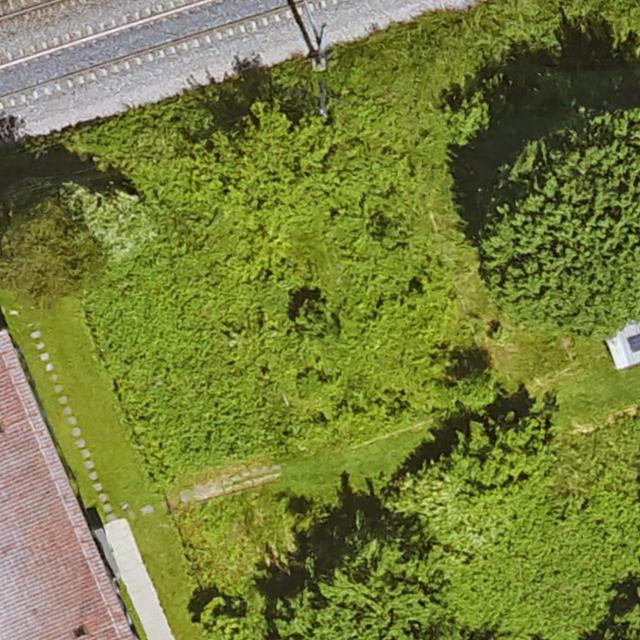tree: (488, 107, 640, 340), (274, 536, 466, 640), (389, 412, 550, 535), (0, 179, 134, 305), (223, 110, 341, 207)
